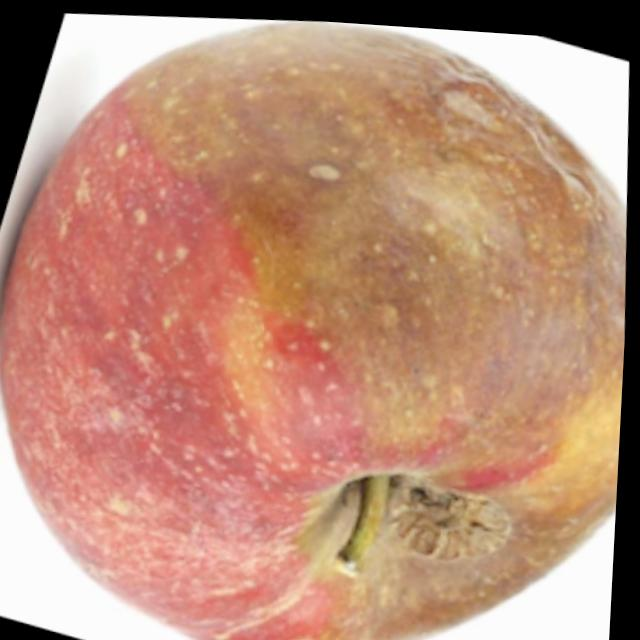organik: (0, 1, 640, 640)
